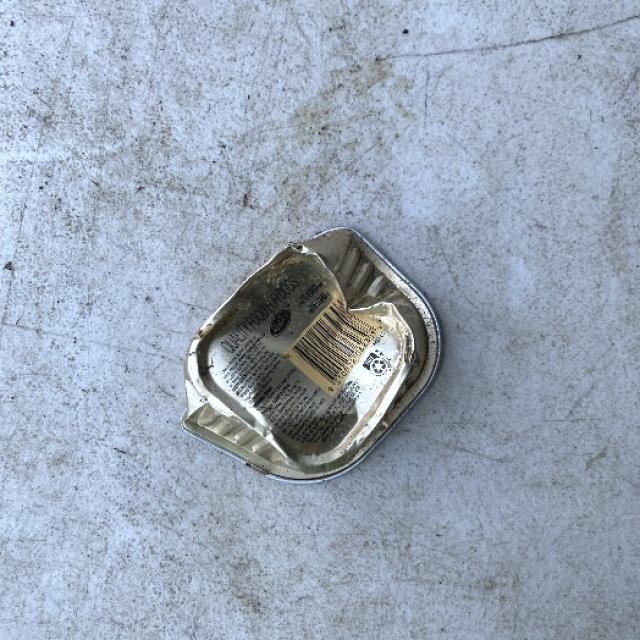inorganic: (178, 198, 436, 514)
